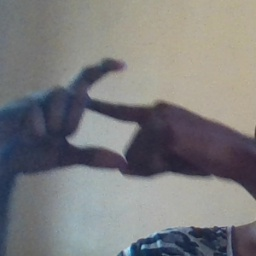E: (47, 54, 163, 171)
